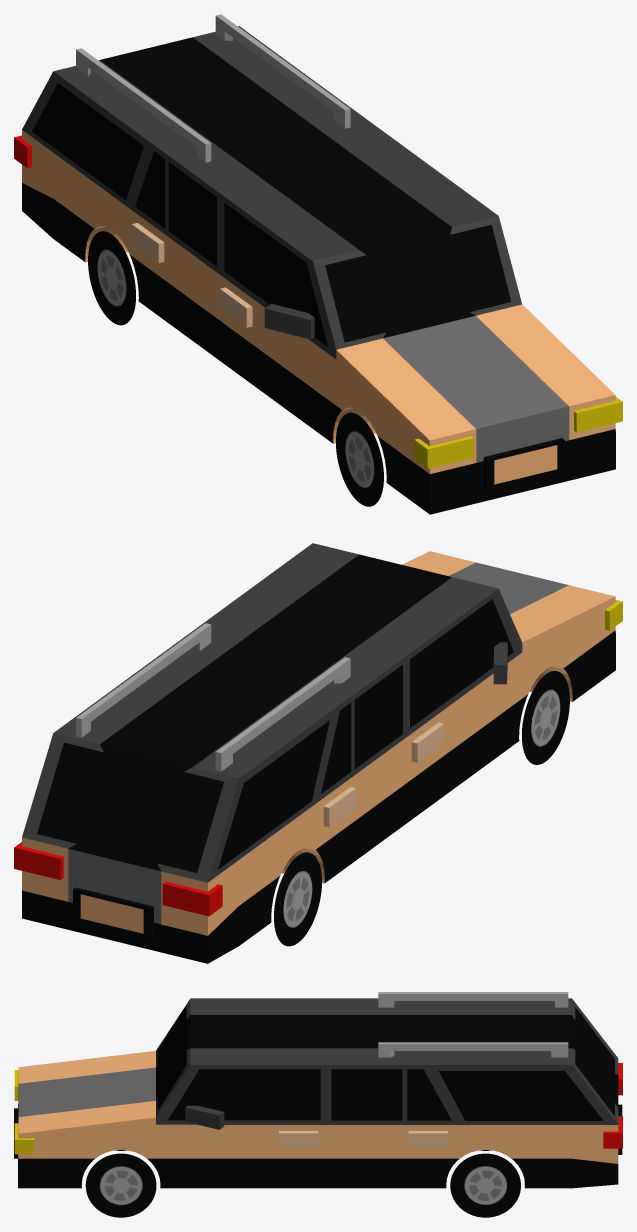
Rendered from Mobil_6_Peach_D.fbx.
3 views of the same model, one above another, from view 1: azimuth 30°, elevation 25°; view 2: azimuth 150°, elevation 25°; view 3: azimuth 270°, elevation 25° (orthographic). The views are drawn at different scales.
Parts seen in each view (by area): view 1: Mobil2.001; view 2: Mobil2.001; view 3: Mobil2.001.
Part boxes in pixels (<box>): Mobil2.001: <box>14,14,622,514</box>; Mobil2.001: <box>14,543,622,963</box>; Mobil2.001: <box>14,992,622,1217</box>.
Bounding box in the file's own units: 521 × 465 × 1543.
Materials: 5 (3 with a texture image).
